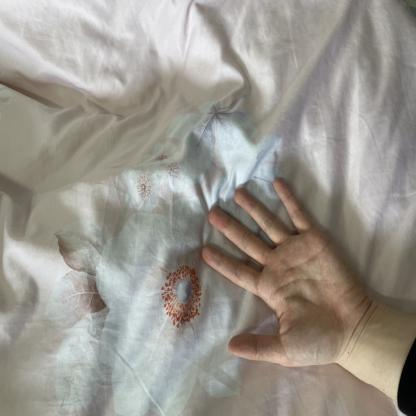bare_hand: (196, 164, 369, 372)
